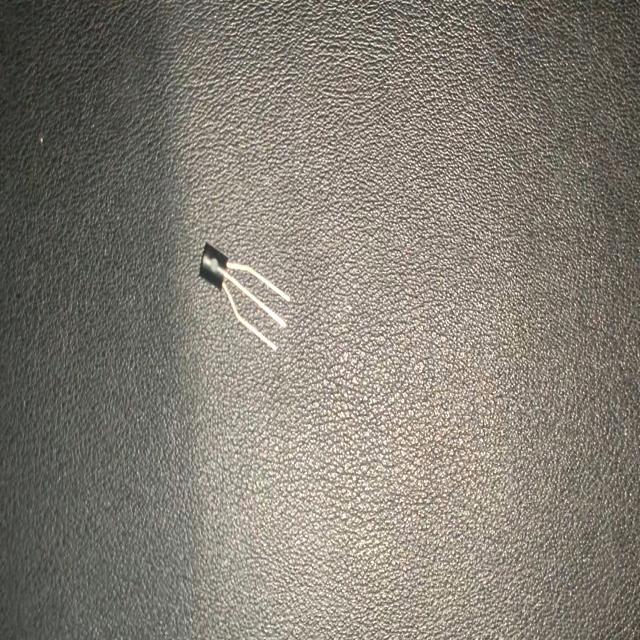BJT: (196, 236, 292, 353)
